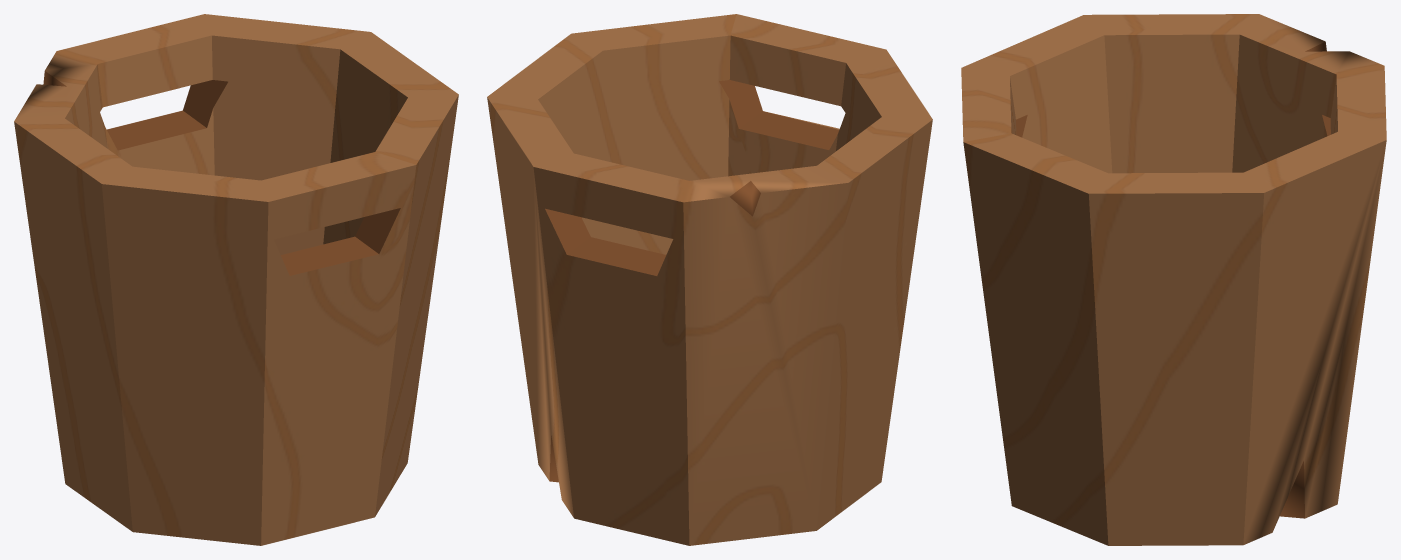
File: Barrel.fbx
The picture shows the model from 3 angles, left to right: view 1: azimuth 30°, elevation 25°; view 2: azimuth 150°, elevation 25°; view 3: azimuth 270°, elevation 25°; orthographic projection. The views are drawn at different scales.
Visible parts, largest first — view 1: Barrel; view 2: Barrel; view 3: Barrel.
Boxes of the visible parts, x1=… form: Barrel: x1=14, y1=14, x2=458, y2=545; Barrel: x1=487, y1=14, x2=932, y2=545; Barrel: x1=961, y1=14, x2=1386, y2=545.
Size of the model in its own units: 86.26 by 83.41 by 86.26.
Materials: 1 (1 with a texture image).
